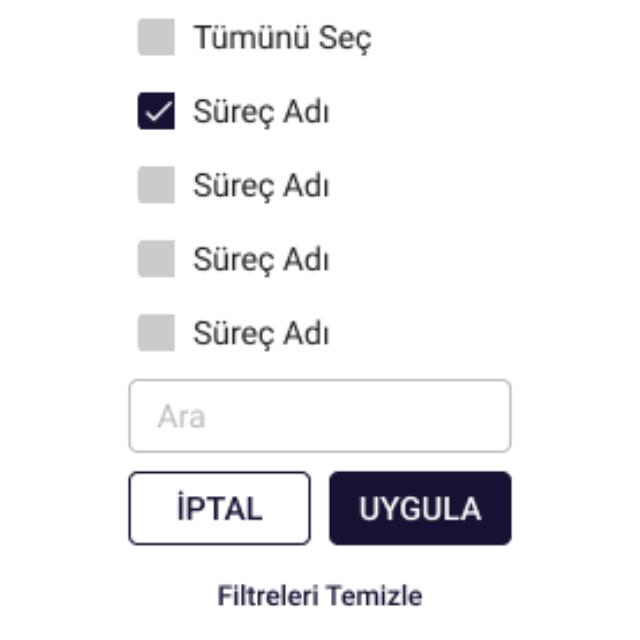QLabel: (190, 21, 376, 59), (213, 580, 425, 612), (192, 168, 332, 204), (192, 317, 334, 351), (194, 243, 330, 277), (192, 95, 331, 128), (356, 492, 482, 522), (176, 488, 264, 526)
VBtn: (328, 468, 514, 548), (126, 469, 312, 547)
VCheckbox: (135, 16, 179, 62), (134, 90, 180, 132), (134, 163, 178, 204), (136, 238, 178, 278), (135, 314, 177, 352)
VTextField: (126, 376, 514, 454)
